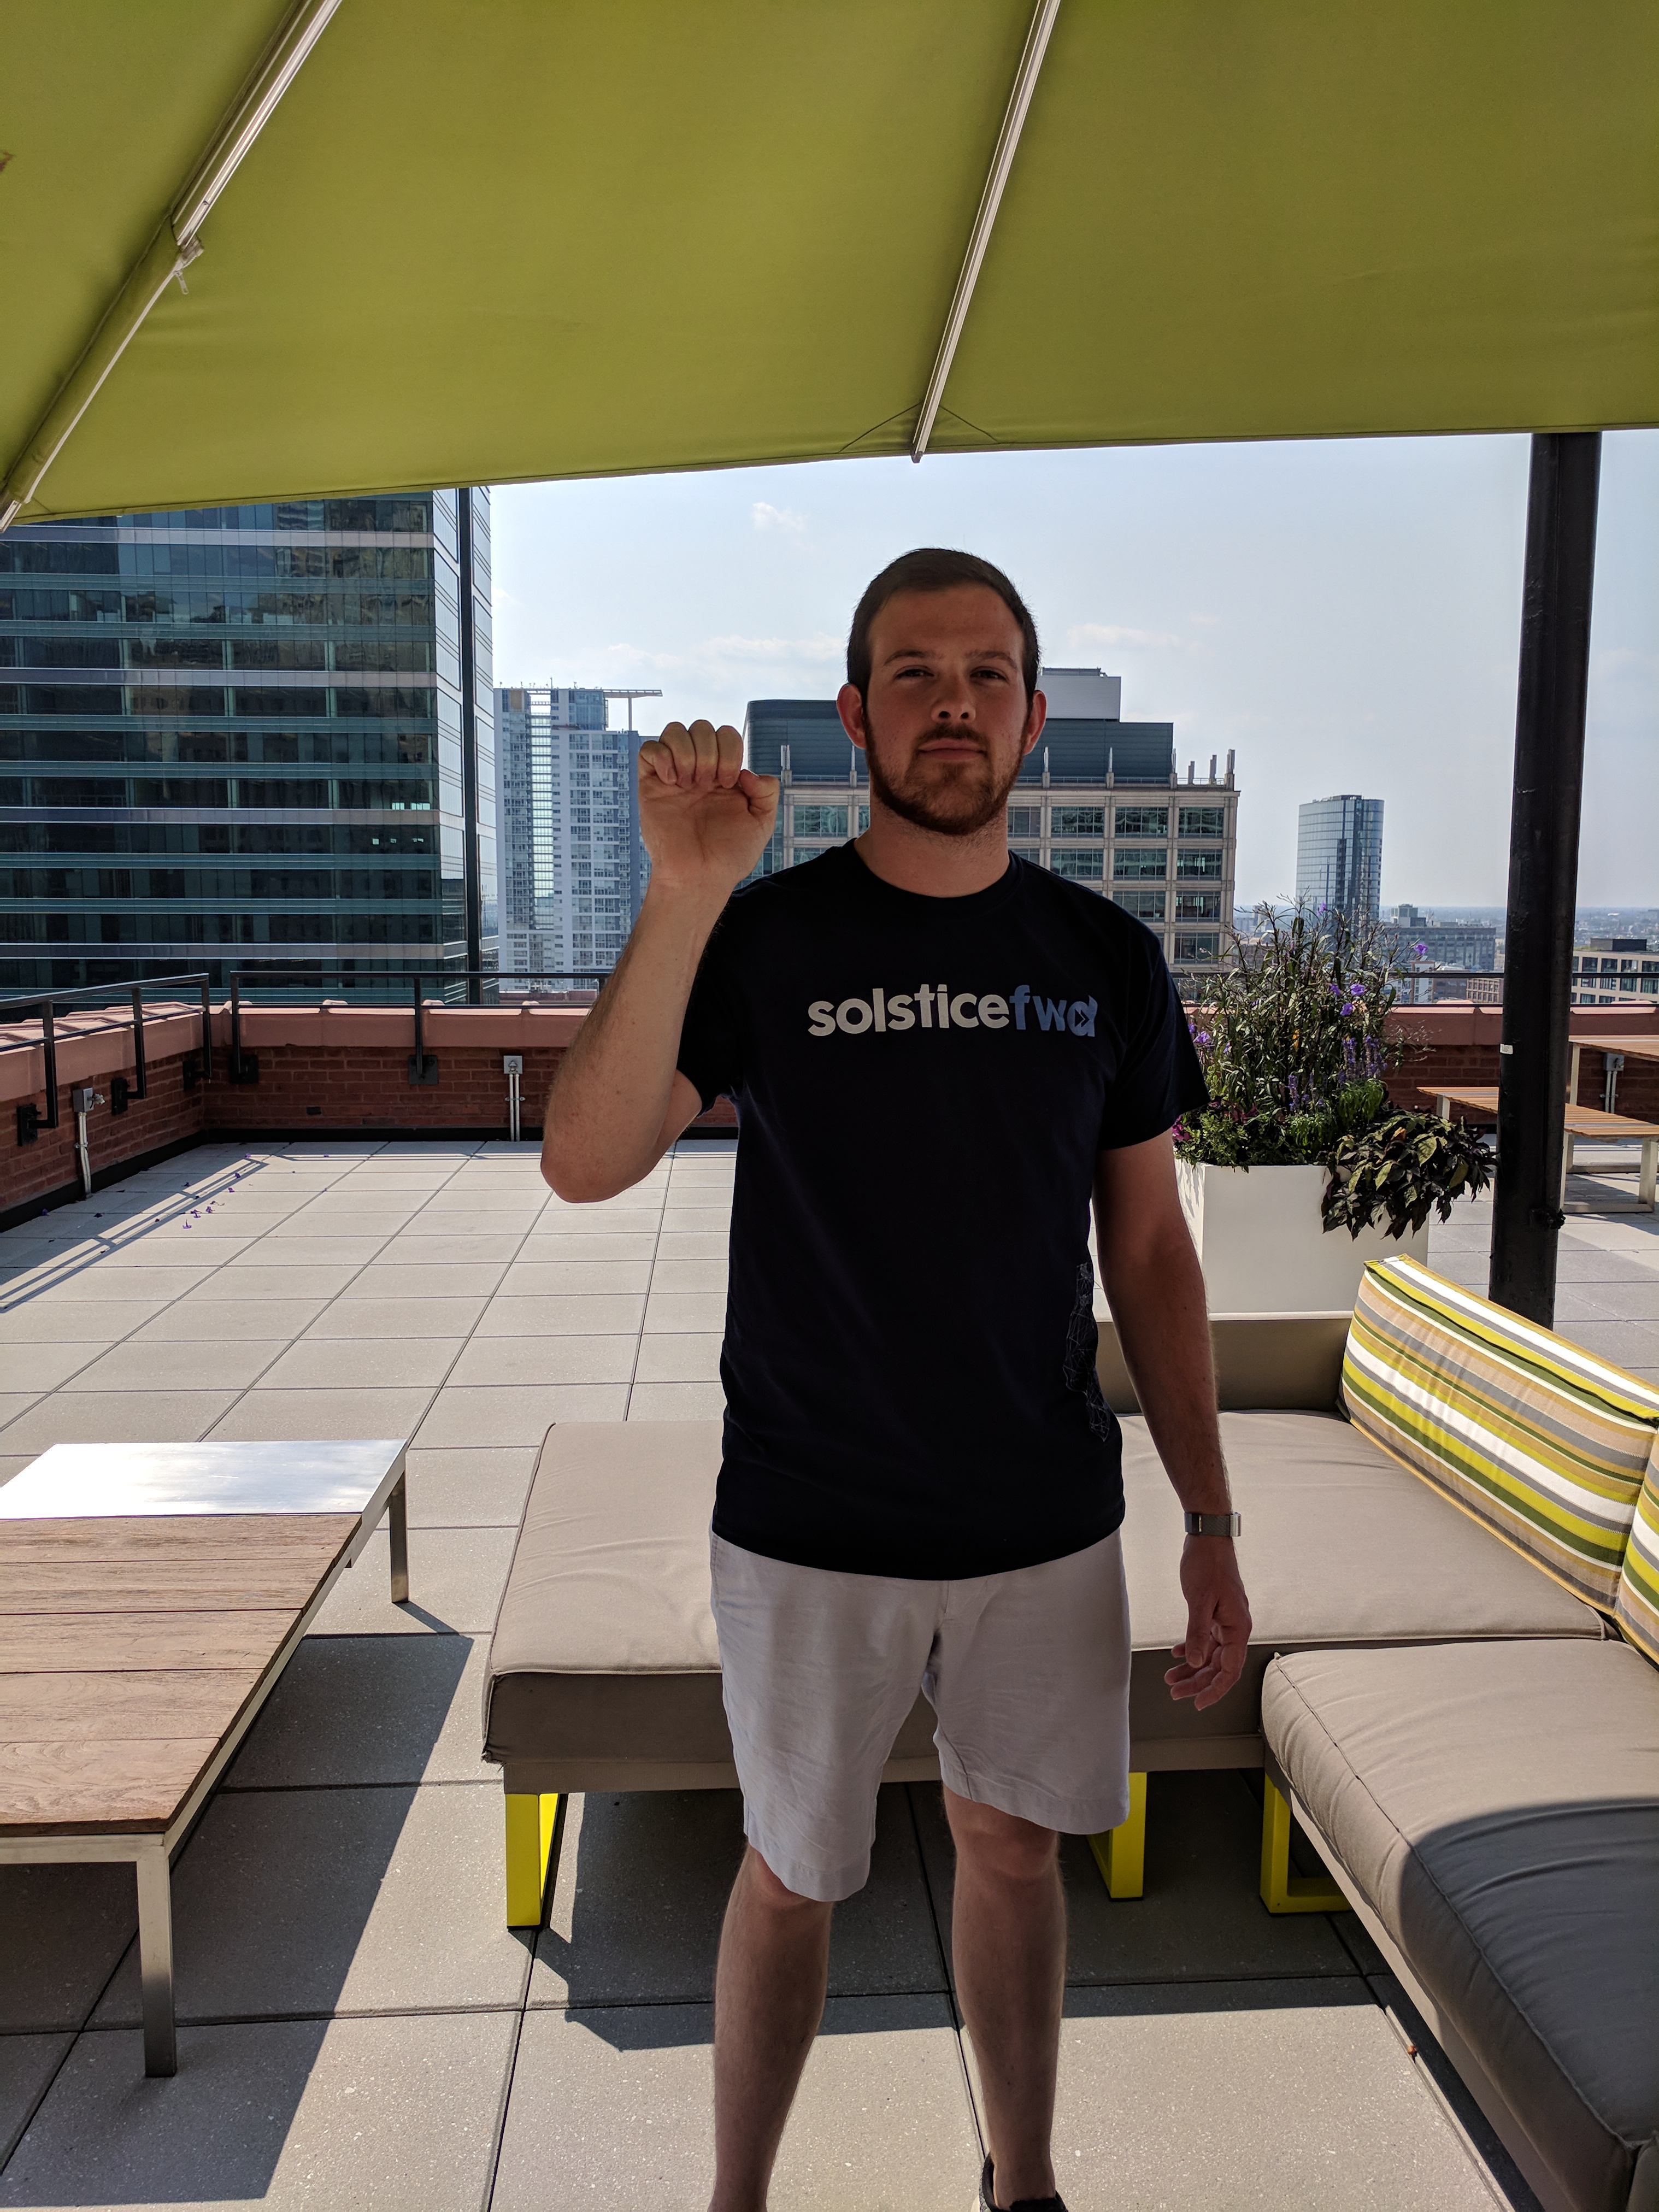e: (633, 714, 800, 888)
